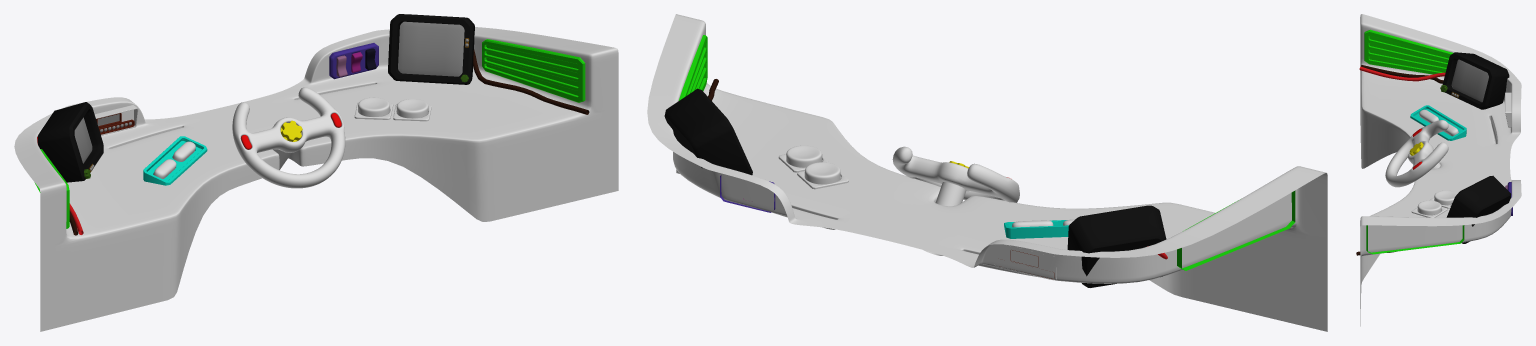
The model's file is dash2.fbx.
3 renders of one model, left to right at view 1: azimuth 30°, elevation 25°; view 2: azimuth 150°, elevation 25°; view 3: azimuth 270°, elevation 25°, orthographic. The views are drawn at different scales.
Parts seen in each view (by area): view 1: dash, Object003, right glass, buttonB, buttonA, left glass; view 2: dash, Object003, buttonA, buttonB; view 3: dash, Object003, left glass, buttonB, buttonA, startButton, buttonBpanel.
Part boxes in pixels (x1=…): dash: x1=14, y1=14, x2=618, y2=331; Object003: x1=232, y1=87, x2=345, y2=188; right glass: x1=398, y1=21, x2=464, y2=76; buttonB: x1=396, y1=99, x2=428, y2=118; buttonA: x1=358, y1=97, x2=389, y2=116; left glass: x1=74, y1=117, x2=92, y2=163; dash: x1=647, y1=14, x2=1327, y2=331; Object003: x1=892, y1=146, x2=1019, y2=255; buttonA: x1=804, y1=162, x2=840, y2=184; buttonB: x1=786, y1=145, x2=822, y2=167; dash: x1=1356, y1=14, x2=1521, y2=326; Object003: x1=1385, y1=120, x2=1448, y2=187; left glass: x1=1451, y1=59, x2=1488, y2=102; buttonB: x1=1417, y1=200, x2=1441, y2=215; buttonA: x1=1434, y1=190, x2=1456, y2=205; startButton: x1=1419, y1=109, x2=1438, y2=123; buttonBpanel: x1=1411, y1=207, x2=1447, y2=217.
Bounding box in the file's own units: 102 × 24.4 × 33.59.
